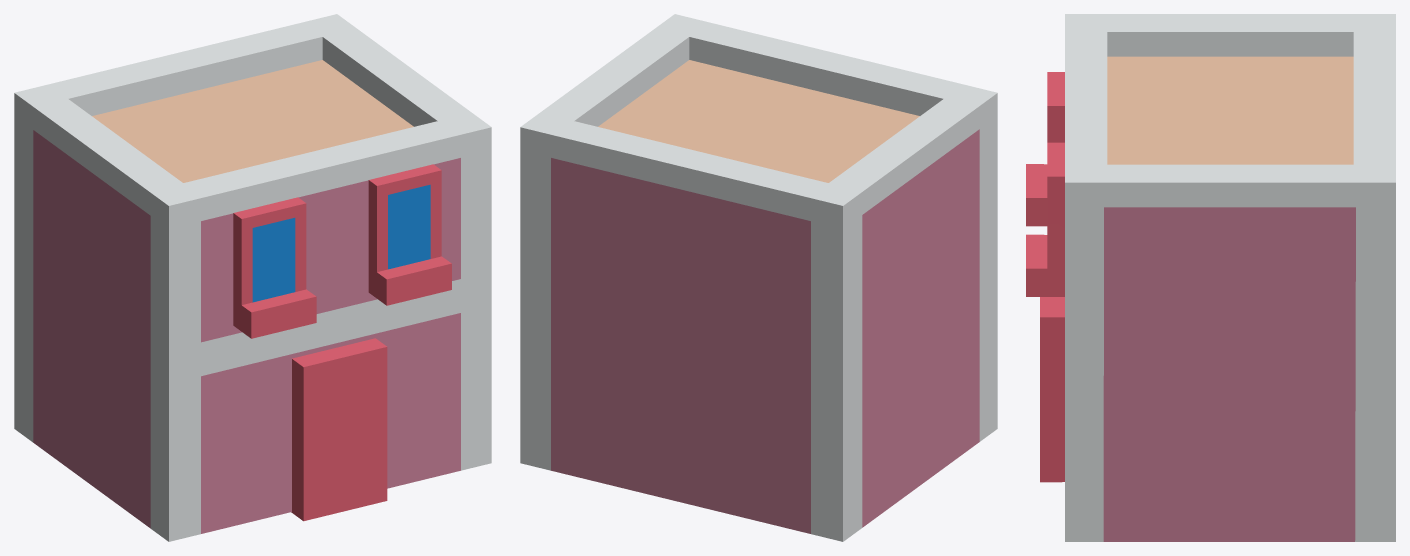
File: shop02_s02.FBX
3 renders of one model, left to right at view 1: azimuth 30°, elevation 25°; view 2: azimuth 150°, elevation 25°; view 3: azimuth 270°, elevation 25°, orthographic. The views are drawn at different scales.
Parts seen in each view (by area): view 1: shop02_s02; view 2: shop02_s02; view 3: shop02_s02.
Part boxes in pixels (<box>): shop02_s02: <box>14,14,491,541</box>; shop02_s02: <box>520,14,997,541</box>; shop02_s02: <box>1026,14,1395,541</box>.
Size of the model in its own units: 414 by 384 by 413.
Materials: 1 (1 with a texture image).
